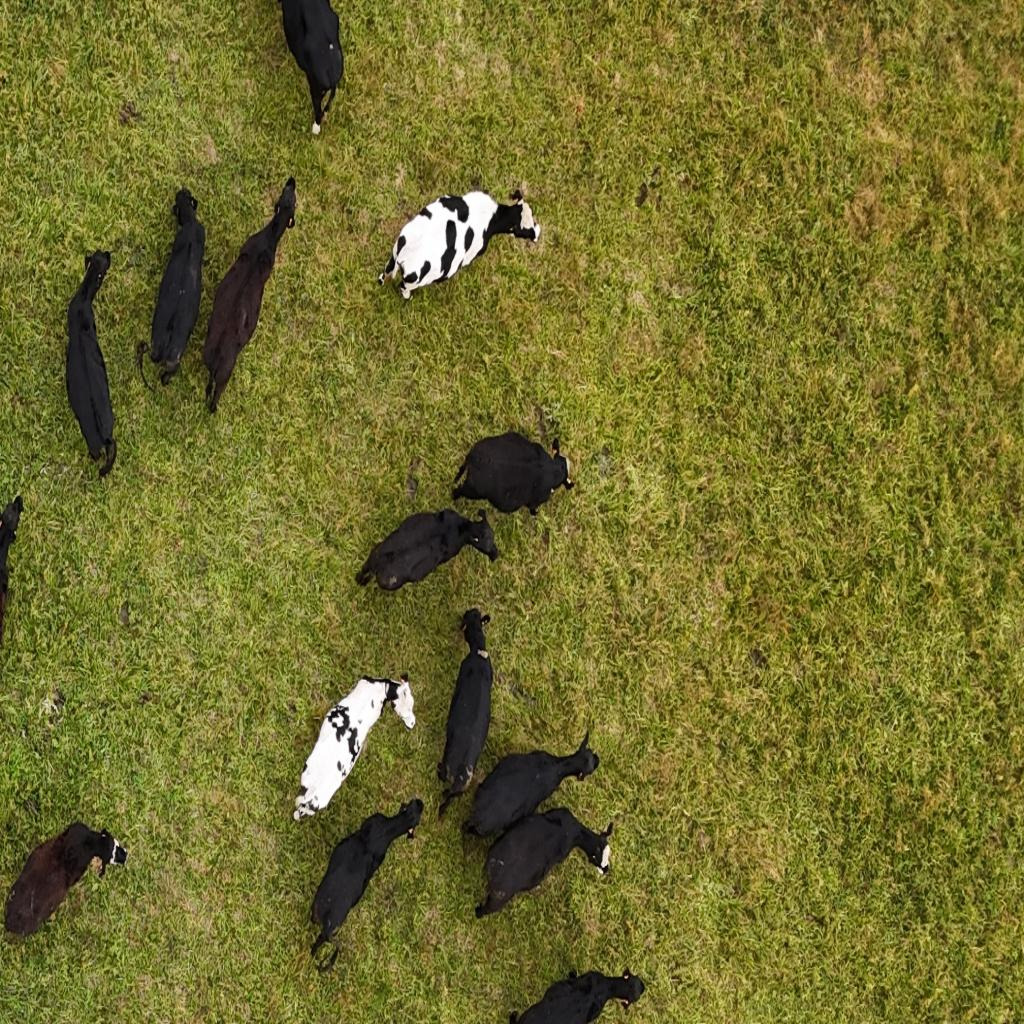cow: (198, 177, 297, 415), (376, 177, 548, 305), (2, 787, 137, 949), (307, 800, 423, 972), (291, 673, 415, 821), (471, 806, 614, 921), (461, 729, 600, 846), (133, 189, 205, 394), (354, 504, 494, 595), (435, 610, 495, 814), (64, 251, 118, 477), (499, 938, 645, 1019), (448, 428, 574, 520), (267, 0, 347, 141)
